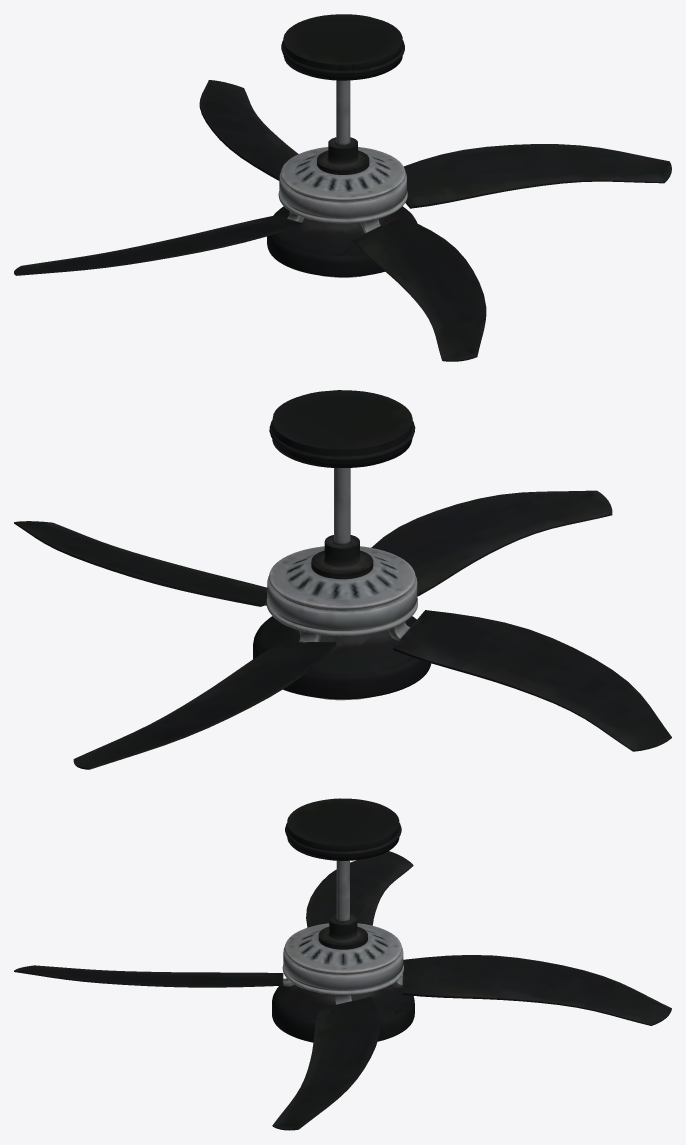
Rendered from ceiling_fan.bf54e929.glb.
3 renders of one model, top to bottom at view 1: azimuth 30°, elevation 25°; view 2: azimuth 150°, elevation 25°; view 3: azimuth 270°, elevation 25°, orthographic. The views are drawn at different scales.
Parts seen in each view (by area): view 1: ceiling_fan_blades, ceiling_fan; view 2: ceiling_fan_blades, ceiling_fan; view 3: ceiling_fan_blades, ceiling_fan.
Part boxes in pixels (x1,y1,x2,y2): ceiling_fan_blades: (14,80,671,361); ceiling_fan: (267,14,417,277); ceiling_fan_blades: (14,490,671,769); ceiling_fan: (253,390,431,700); ceiling_fan_blades: (14,851,671,1130); ceiling_fan: (272,798,414,1042).
Size of the model in its own units: 1.46 by 0.5163 by 1.46.
1 material, 1 textured.
